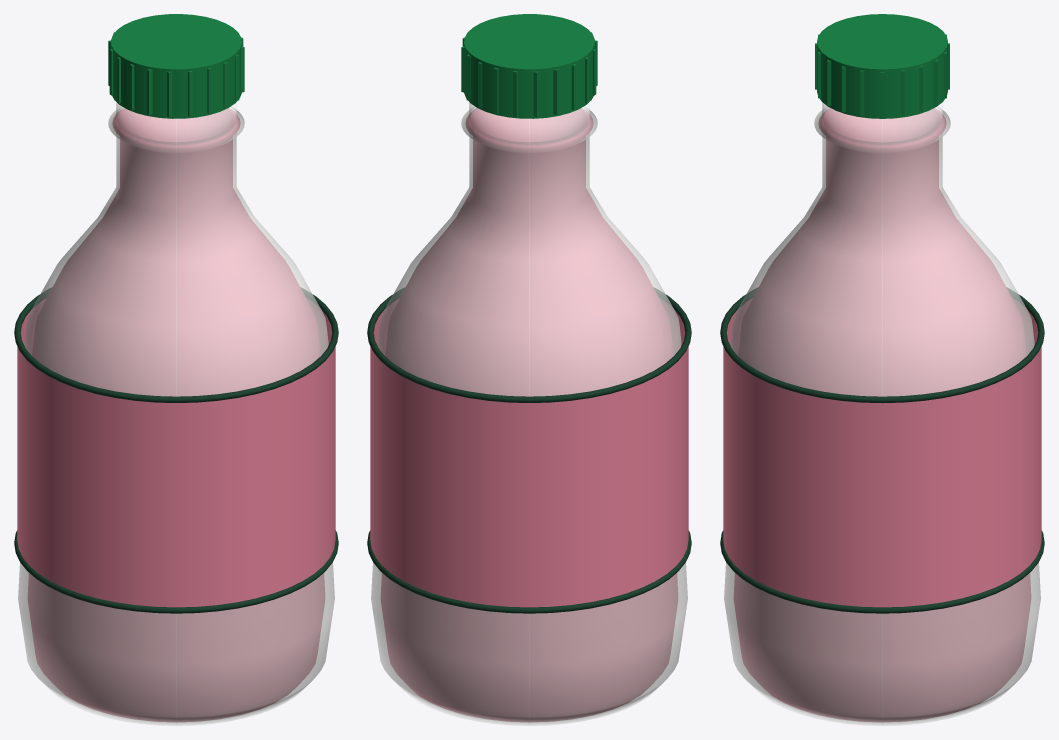
File: guava-bottle.glb
The picture shows the model from 3 angles, left to right: view 1: azimuth 30°, elevation 25°; view 2: azimuth 150°, elevation 25°; view 3: azimuth 270°, elevation 25°; orthographic projection.
Visible parts, largest first — view 1: object 1, object 2, ProductLabel, object 6, object 4, object 5; view 2: object 1, object 2, ProductLabel, object 6, object 4, object 5; view 3: object 1, object 2, ProductLabel, object 6, object 4, object 5.
Part boxes in pixels (x1,y1,x2,y2): object 1: [18, 102, 334, 725]; object 2: [28, 108, 324, 722]; ProductLabel: [17, 298, 335, 607]; object 6: [111, 14, 241, 118]; object 4: [14, 288, 338, 402]; object 5: [14, 530, 338, 613]; object 1: [371, 102, 687, 725]; object 2: [381, 108, 677, 722]; ProductLabel: [370, 298, 688, 607]; object 6: [464, 14, 594, 118]; object 4: [367, 288, 691, 402]; object 5: [367, 530, 691, 613]; object 1: [724, 102, 1040, 725]; object 2: [734, 108, 1030, 722]; ProductLabel: [723, 298, 1041, 607]; object 6: [817, 14, 947, 118]; object 4: [720, 288, 1044, 403]; object 5: [720, 530, 1044, 613].
Size of the model in its own units: 1.19 by 2.55 by 1.19.
